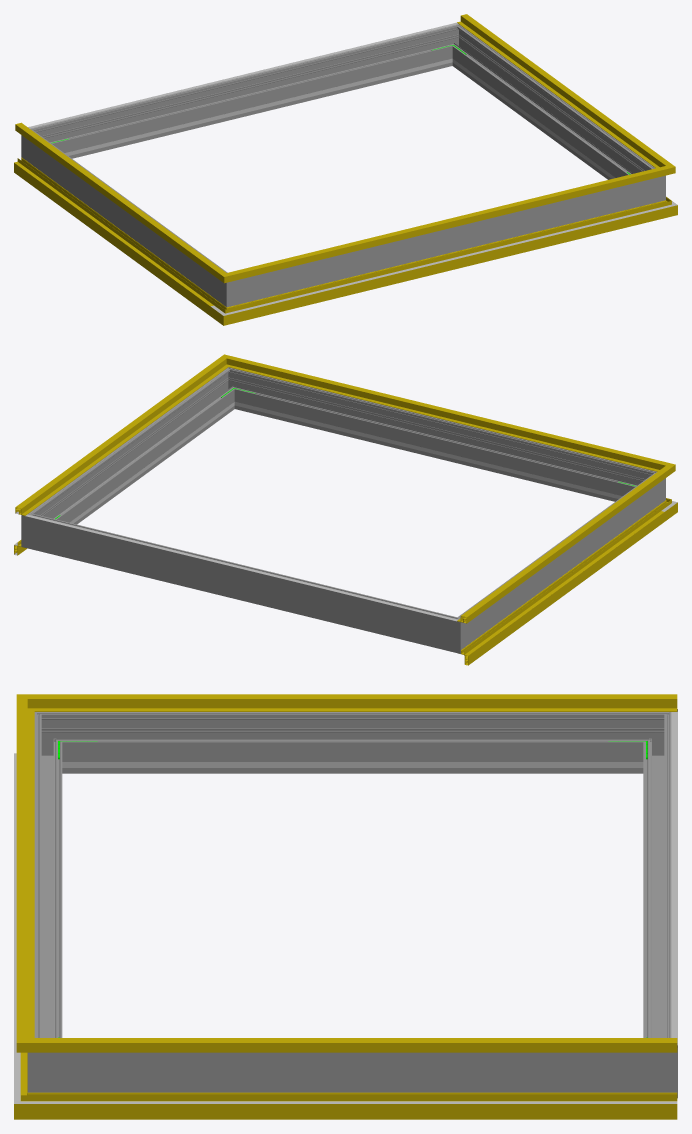
3 views of the same model, one above another, from view 1: azimuth 30°, elevation 25°; view 2: azimuth 150°, elevation 25°; view 3: azimuth 270°, elevation 25° (orthographic). The views are drawn at different scales.
Visible parts, largest first — view 1: 3DGeom-276, 3DGeom-298, 3DGeom-297, 3DGeom-90, 3DGeom-268, 3DGeom-123, 3DGeom-85, 3DGeom-128, 3DGeom-118, 3DGeom-244, 3DGeom-220, 3DGeom-100 (+7 smaller); view 2: 3DGeom-298, 3DGeom-276, 3DGeom-297, 3DGeom-123, 3DGeom-268, 3DGeom-85, 3DGeom-128, 3DGeom-118, 3DGeom-239, 3DGeom-220, 3DGeom-278, 3DGeom-284 (+3 smaller); view 3: 3DGeom-268, 3DGeom-297, 3DGeom-97, 3DGeom-118, 3DGeom-128, 3DGeom-298, 3DGeom-276, 3DGeom-123, 3DGeom-232, 3DGeom-220, 3DGeom-98, 3DGeom-290 (+7 smaller).
Part boxes in pixels (x1,y1,x2,y2): 3DGeom-276: (46,29,448,158); 3DGeom-298: (249,181,643,301); 3DGeom-297: (454,32,648,179); 3DGeom-90: (242,204,655,320); 3DGeom-268: (34,136,220,297); 3DGeom-123: (244,170,652,277); 3DGeom-85: (14,157,217,315); 3DGeom-128: (457,14,661,165); 3DGeom-118: (15,122,216,273); 3DGeom-244: (73,64,430,154); 3DGeom-220: (28,22,458,128); 3DGeom-100: (245,209,654,310); 3DGeom-298: (238,372,640,501); 3DGeom-276: (44,517,441,648); 3DGeom-297: (38,375,232,524); 3DGeom-123: (241,360,652,469); 3DGeom-268: (466,479,652,640); 3DGeom-85: (461,506,664,665); 3DGeom-128: (15,364,220,515); 3DGeom-118: (457,472,662,623); 3DGeom-239: (256,407,614,497); 3DGeom-220: (25,514,457,621); 3DGeom-278: (438,611,473,653); 3DGeom-284: (21,506,47,552); 3DGeom-268: (69,712,636,773); 3DGeom-297: (69,1052,636,1092); 3DGeom-97: (55,1092,677,1119); 3DGeom-118: (58,694,677,711); 3DGeom-128: (58,1038,677,1052); 3DGeom-298: (34,726,62,1037); 3DGeom-276: (643,726,671,1037); 3DGeom-123: (16,712,34,1034); 3DGeom-232: (102,762,603,767); 3DGeom-220: (671,711,677,1045); 3DGeom-98: (55,1101,677,1103); 3DGeom-290: (27,1030,69,1092).
Bounding box in the file's own units: 3.05 × 0.3069 × 2.44.
